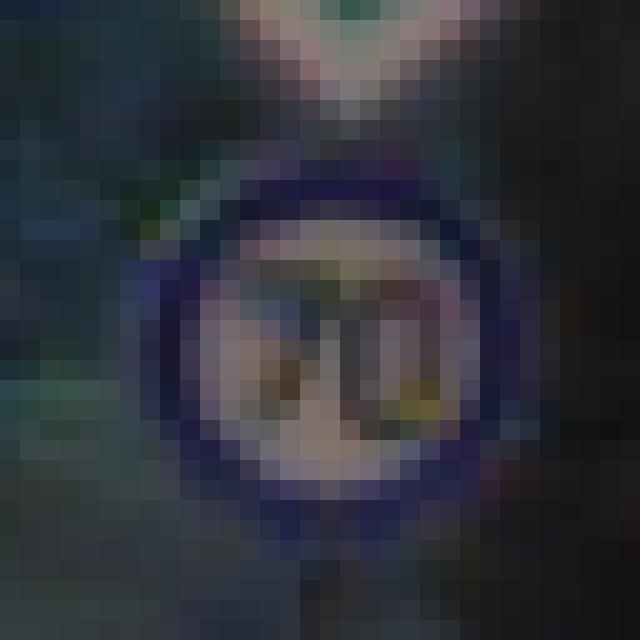SPEED LIMIT 70: (155, 185, 549, 527)
